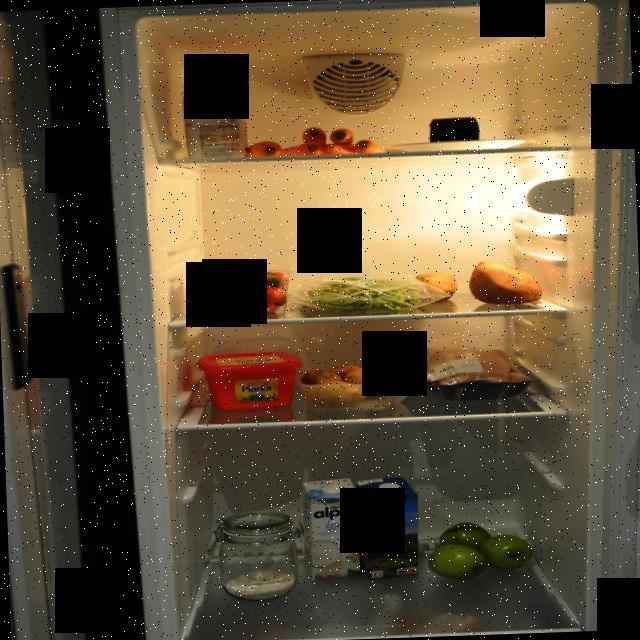apple: (427, 513, 540, 584)
beans: (282, 270, 450, 317)
butter: (195, 350, 303, 410)
carrot: (245, 122, 391, 162)
cheese: (425, 114, 484, 143)
chicken breast: (397, 339, 535, 404)
flour: (215, 506, 298, 604)
milk: (299, 477, 369, 582), (361, 474, 424, 580)
potato: (296, 353, 406, 414)
strawberry: (202, 265, 290, 320)
sugar: (182, 73, 250, 159)
sweet potato: (467, 253, 543, 307), (415, 265, 454, 296)
